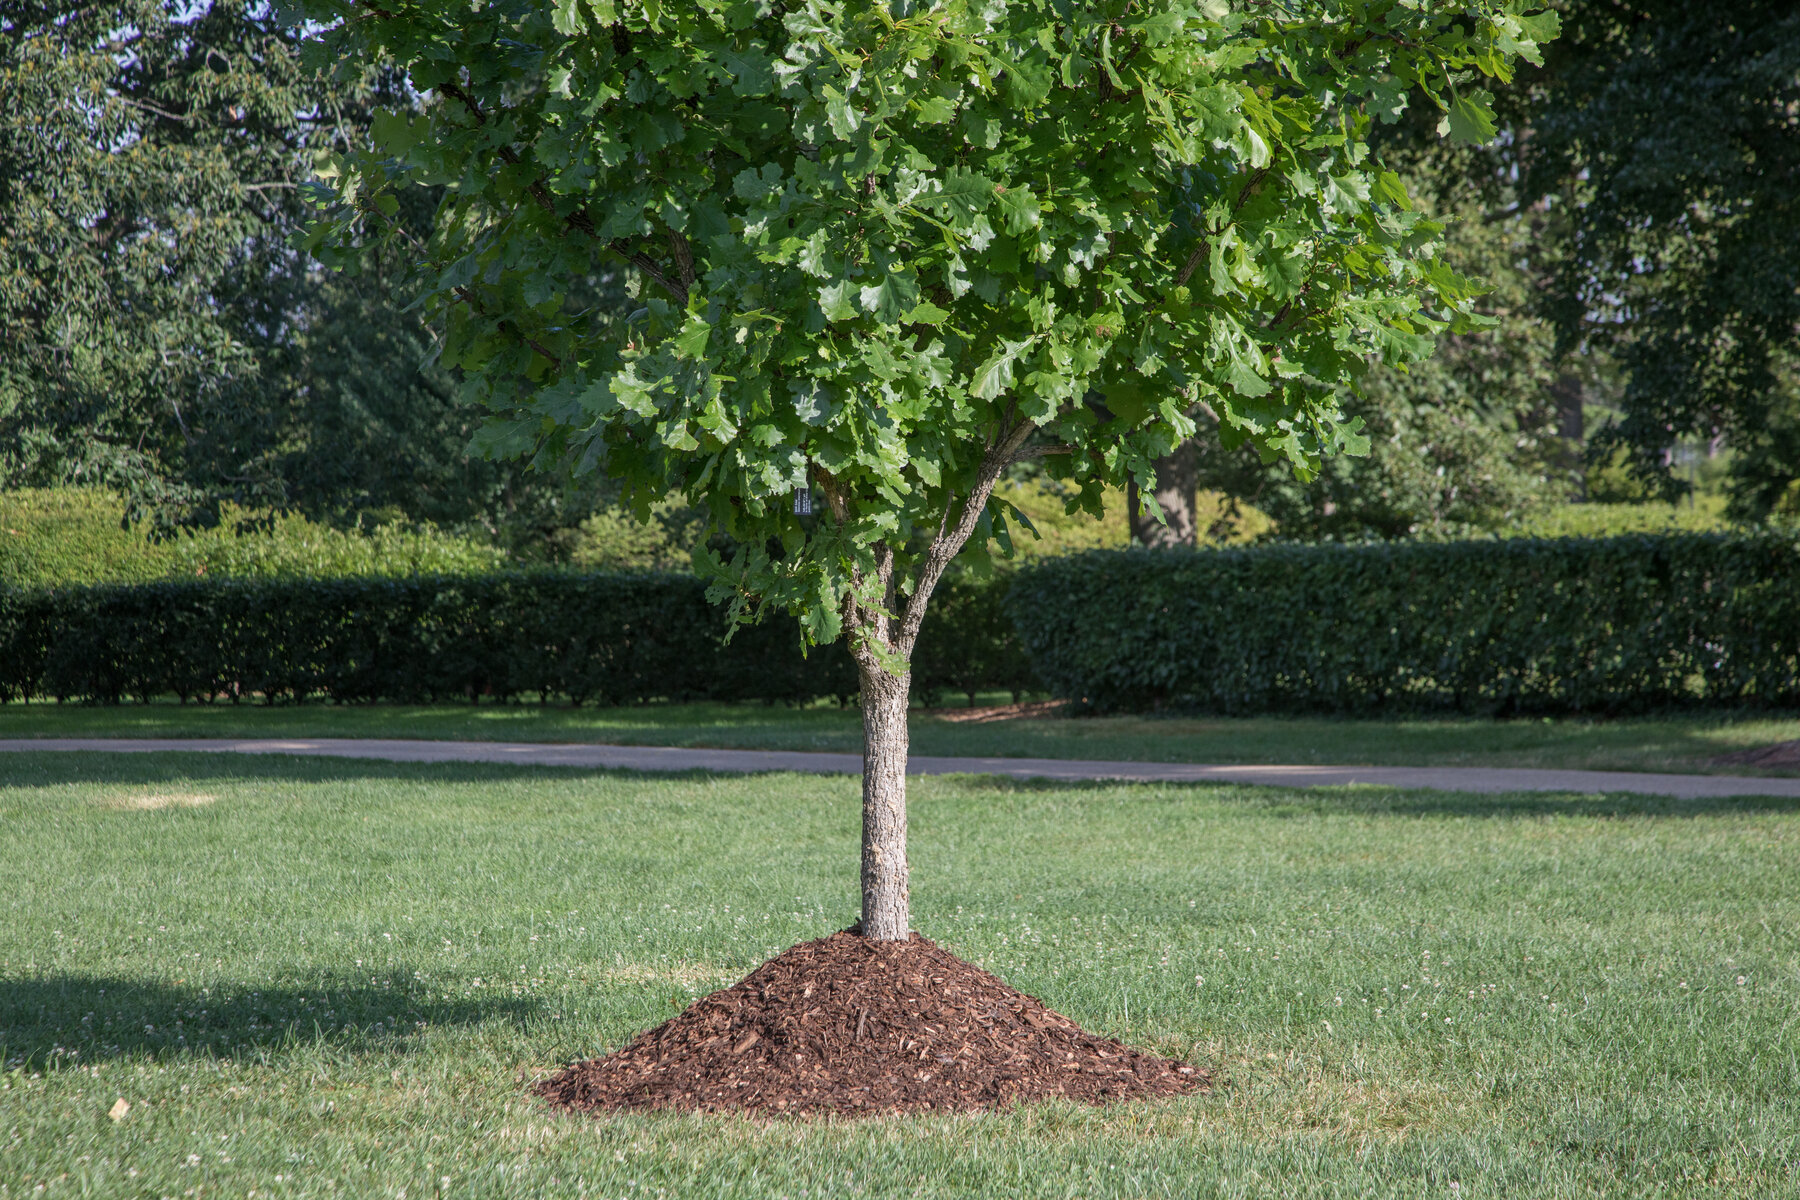dirt: (538, 956, 1213, 1104)
grass: (0, 743, 813, 1187), (950, 786, 1784, 1191)
tree: (854, 646, 909, 950)
